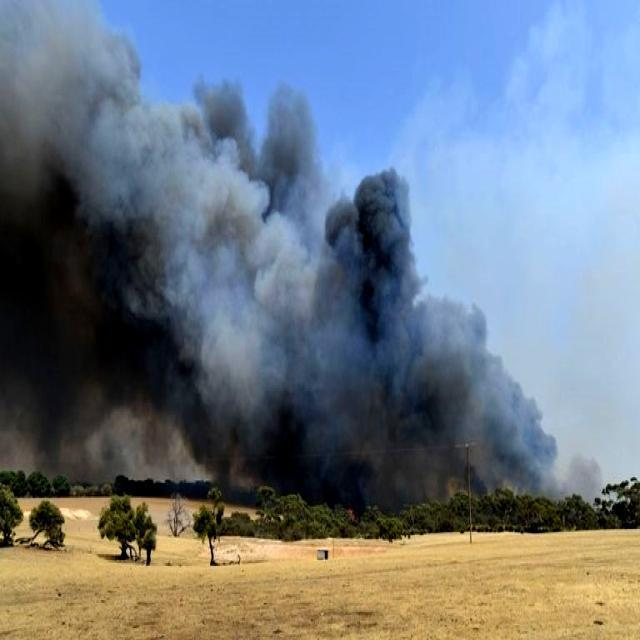Smoke: (0, 0, 538, 518)
